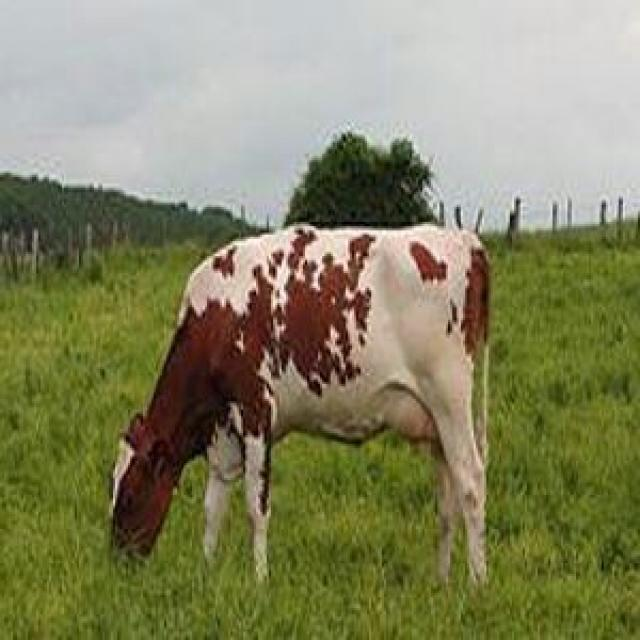cow: (112, 225, 489, 582)
